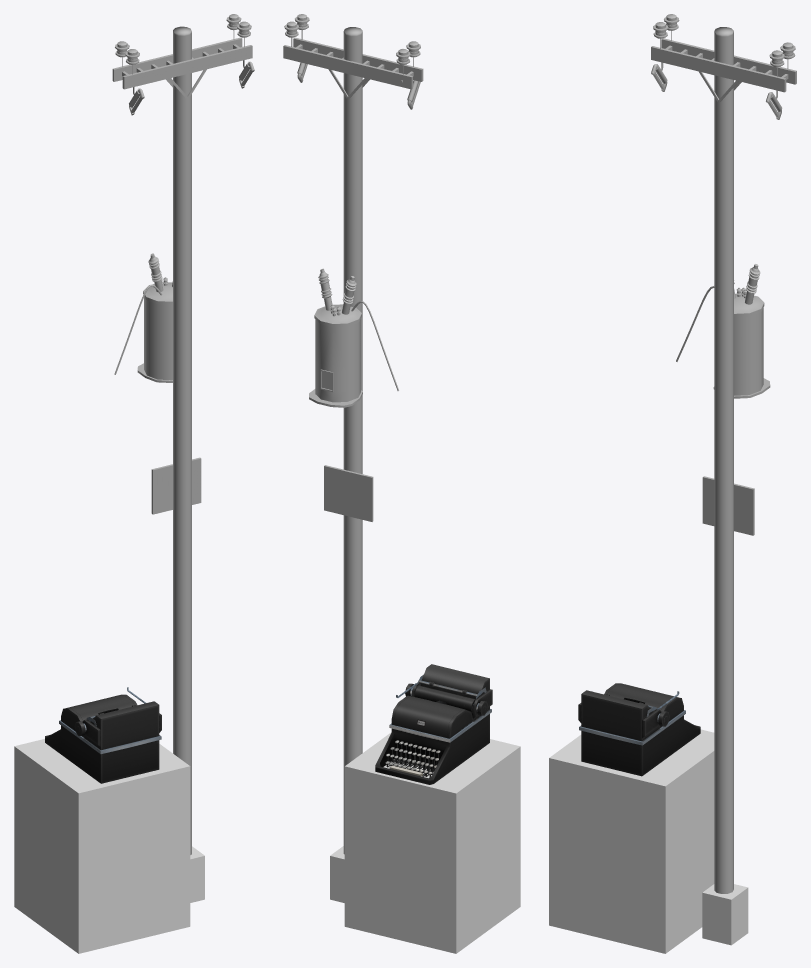
File: CipherMachine.fbx
3 renders of one model, left to right at view 1: azimuth 30°, elevation 25°; view 2: azimuth 150°, elevation 25°; view 3: azimuth 330°, elevation 25°, orthographic. The views are drawn at different scales.
Parts seen in each view (by area): view 1: Box, AM227_013_06, 0_TEX_1, Box2; view 2: Box, AM227_013_06, 0_TEX_1, Box2; view 3: Box, AM227_013_06, 0_TEX_1, Box2.
Part boxes in pixels (box(x1,y1,x2,y2)): Box: box(14, 739, 190, 953); AM227_013_06: box(112, 14, 254, 854); 0_TEX_1: box(45, 687, 161, 783); Box2: box(190, 846, 204, 902); Box: box(344, 732, 520, 953); AM227_013_06: box(283, 14, 423, 854); 0_TEX_1: box(375, 664, 492, 784); Box2: box(330, 846, 344, 902); Box: box(549, 729, 714, 953); AM227_013_06: box(651, 14, 796, 893); 0_TEX_1: box(578, 683, 700, 776); Box2: box(702, 884, 748, 945).
Bounding box in the file's own units: 143 × 594 × 80.
Materials: 4 (1 with a texture image).
